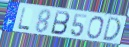5: (70, 13, 88, 38)
8: (35, 9, 53, 35)
B: (50, 10, 71, 36)
D: (101, 16, 122, 42)
L: (17, 7, 31, 31)
O: (86, 15, 105, 40)
